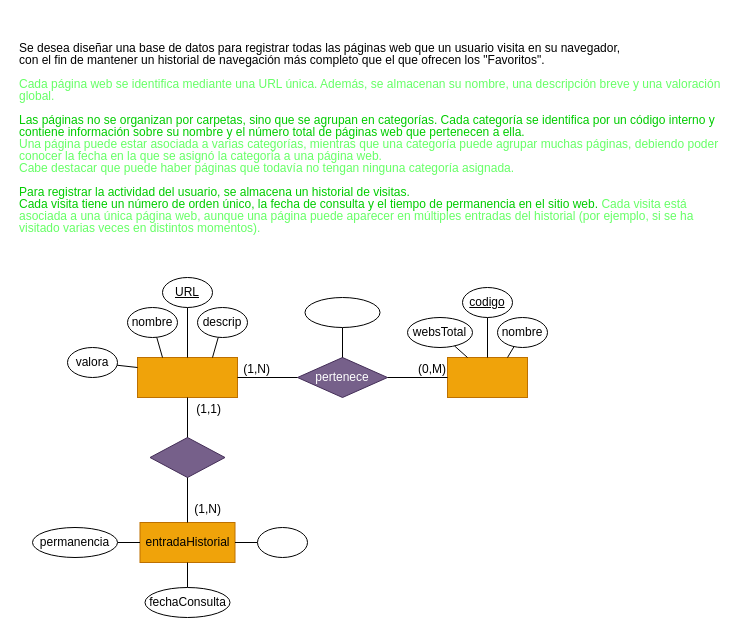
Image size: 744x635. Some labels were removed from this diagram. The box of each missing label's shape, as (x1, y1, x2, y2) in pixels:
categoria: (446, 356, 528, 398)
fechaAsig: (304, 296, 380, 328)
nOrden: (256, 526, 308, 558)
paginaWeb: (136, 356, 238, 398)
relacion: (149, 436, 225, 478)
